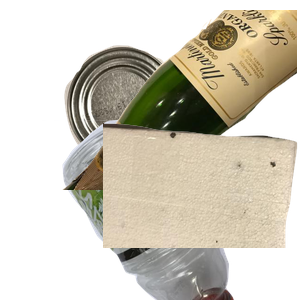glass: (60, 10, 300, 190)
metal: (62, 43, 232, 198)
plastic: (25, 120, 252, 300)
trash: (103, 120, 300, 300)
